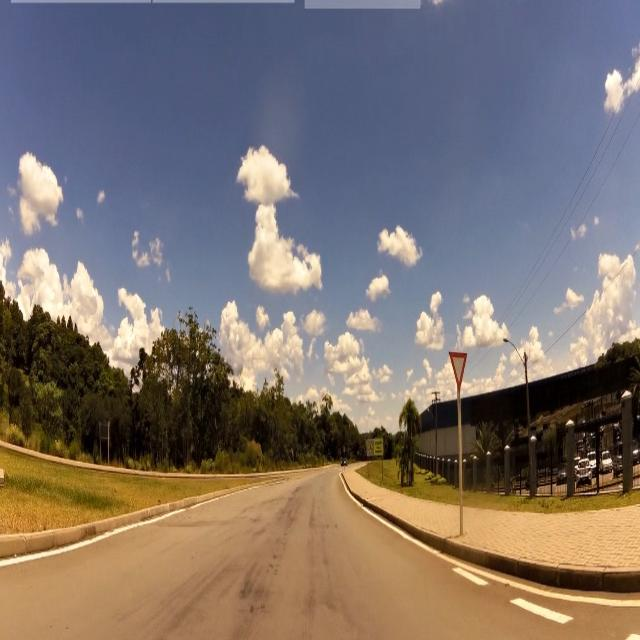R-2: (448, 347, 472, 388)
